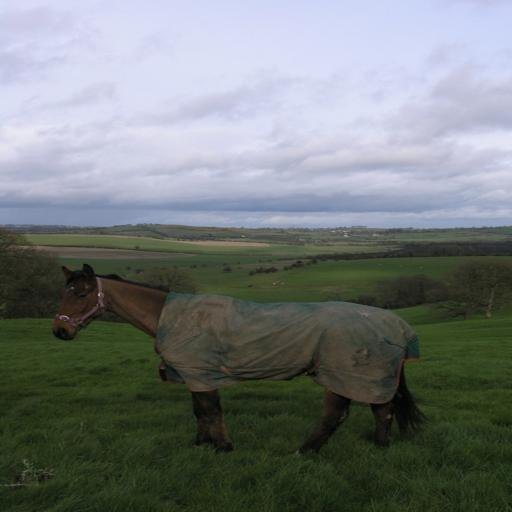horse: (51, 260, 432, 460)
